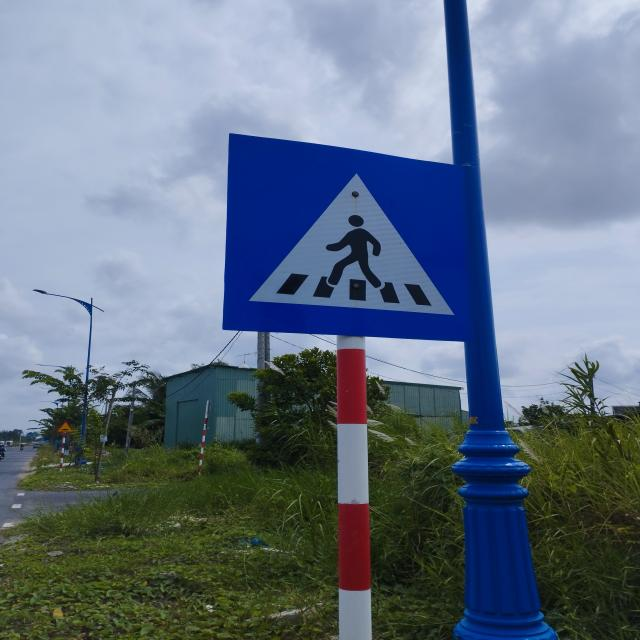Giao_Nhau_Duong_Uu_Tien: (223, 132, 471, 340)
